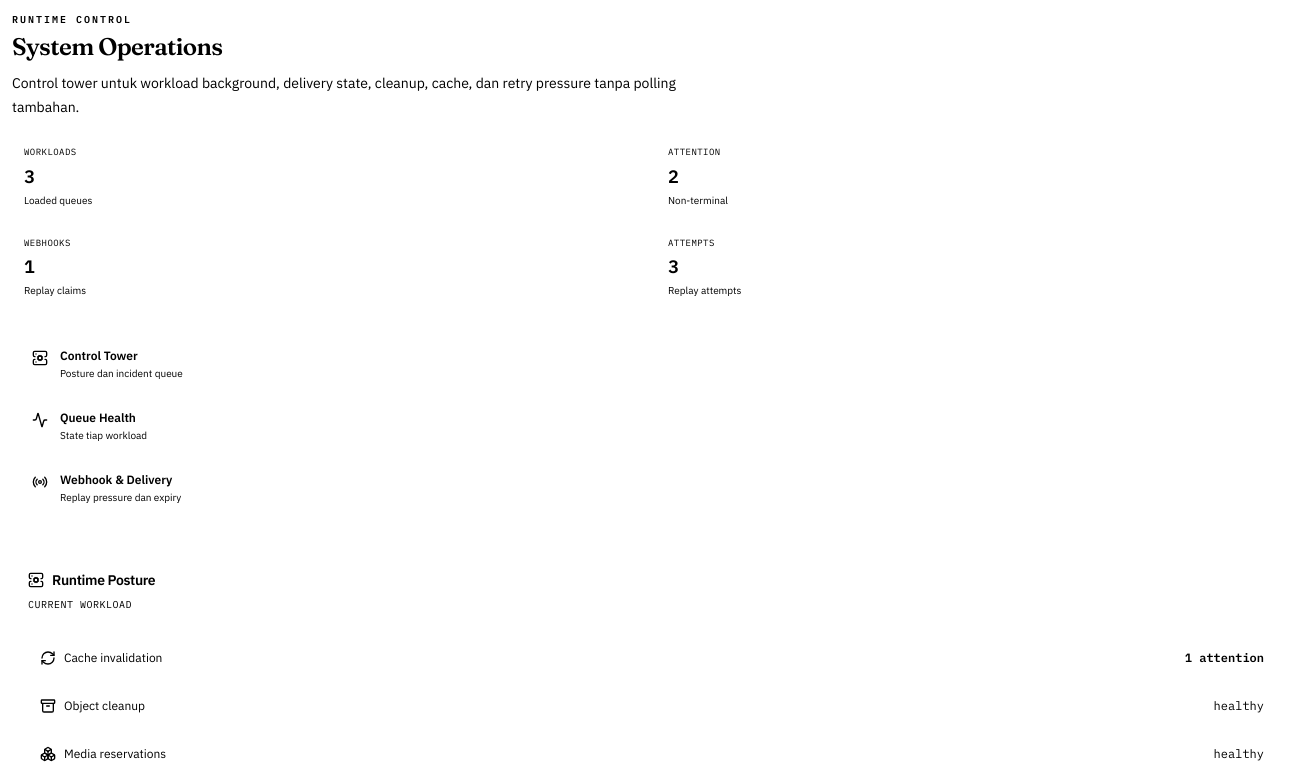
Test: SystemOperationsV2 › shows webhook replay pressure separately
Click the button "Webhook & Delivery Replay pressure dan expiry" at {"x": 116, "y": 480}, box [20,460,1284,518]
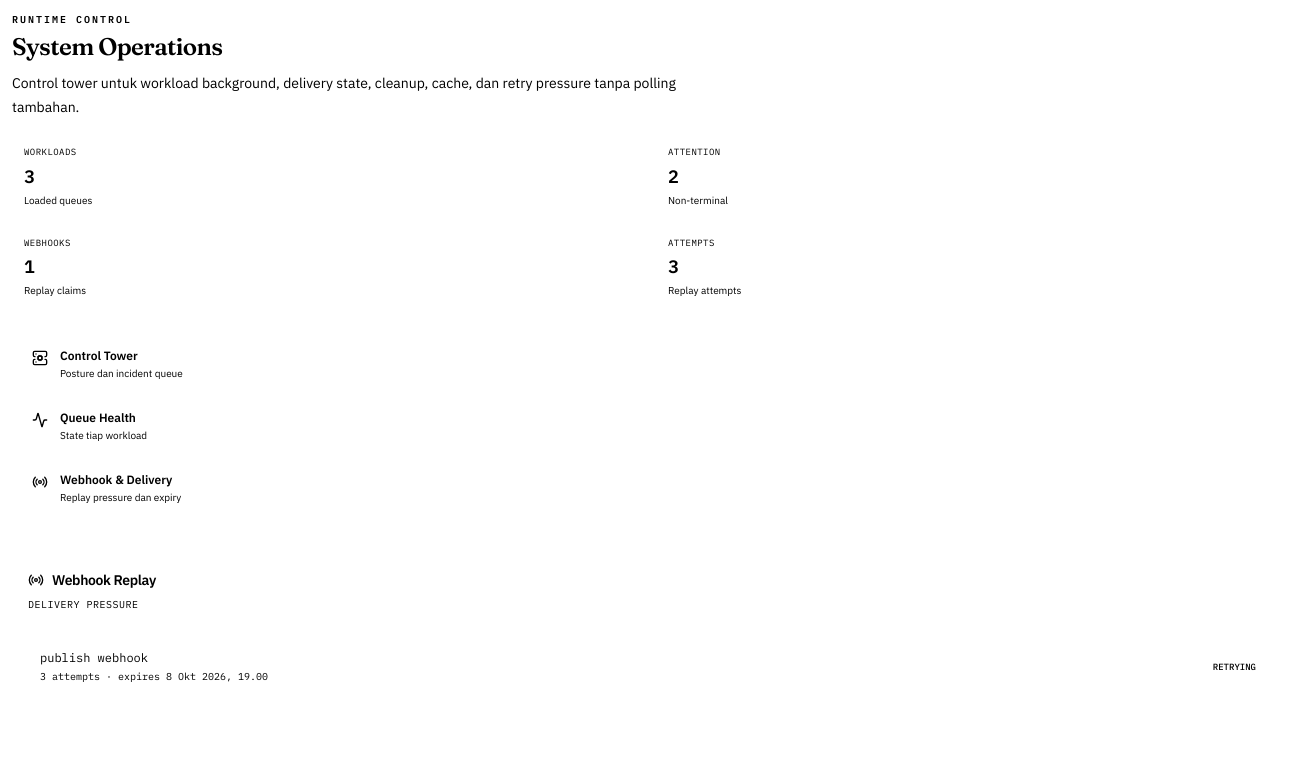
Expected: the text "Webhook Replay" is shown, [52,570,156,590]
Expected: the text "3 attempts · expires 8 Okt 2026, 19.00" is shown, [40,670,268,685]
